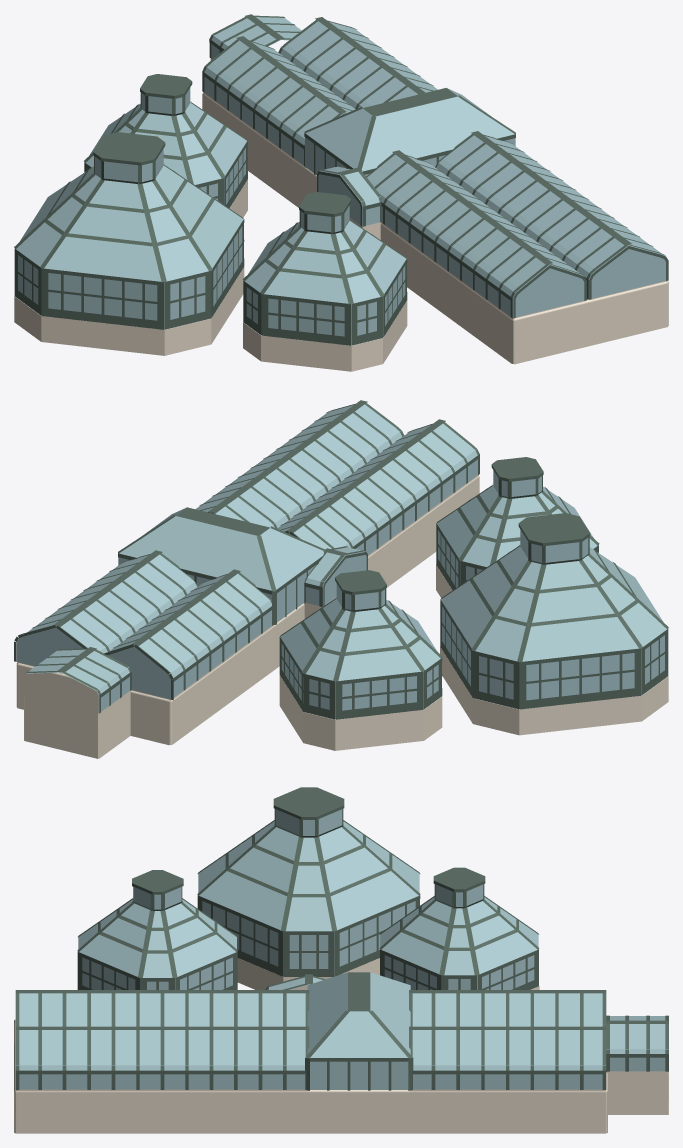
Rendered from nyc-bbg-steinhardt-conservatory.glb.
The picture shows the model from 3 angles, top to bottom: view 1: azimuth 30°, elevation 25°; view 2: azimuth 150°, elevation 25°; view 3: azimuth 270°, elevation 25°; orthographic projection. The views are drawn at different scales.
Visible parts, largest first — view 1: Steinhardt Conservatory, Brooklyn Botanic Garden; view 2: Steinhardt Conservatory, Brooklyn Botanic Garden; view 3: Steinhardt Conservatory, Brooklyn Botanic Garden.
Part boxes in pixels (box(x1,y1,x2,y2)): Steinhardt Conservatory, Brooklyn Botanic Garden: box(14, 14, 668, 371); Steinhardt Conservatory, Brooklyn Botanic Garden: box(14, 400, 668, 758); Steinhardt Conservatory, Brooklyn Botanic Garden: box(14, 787, 668, 1133).
Bounding box in the file's own units: 67.03 × 20.95 × 81.6.
